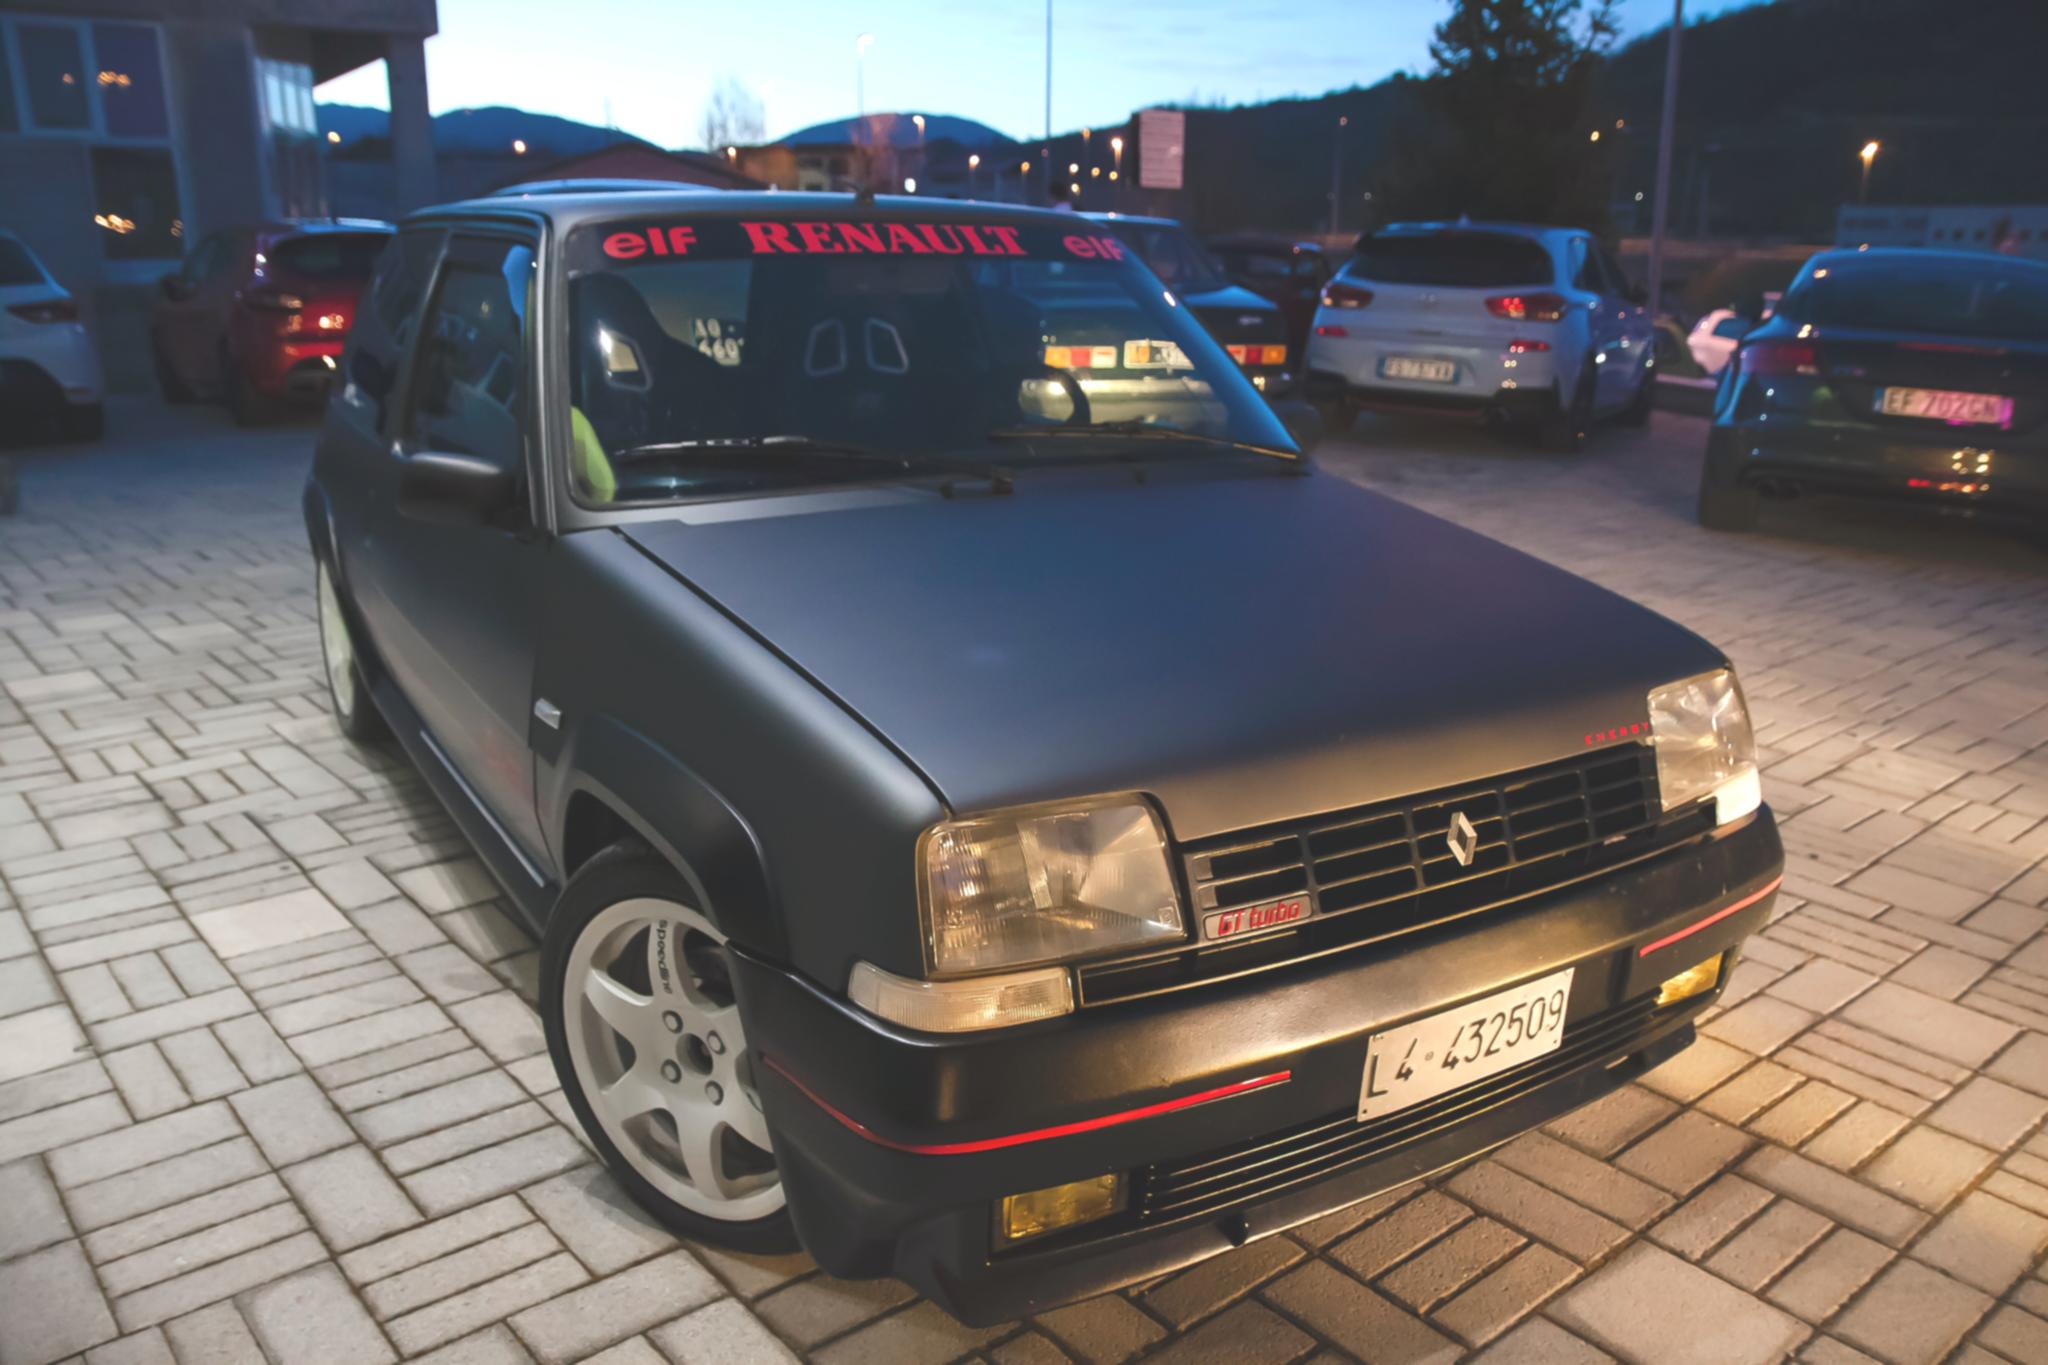Renault: (1427, 794, 1495, 885)
